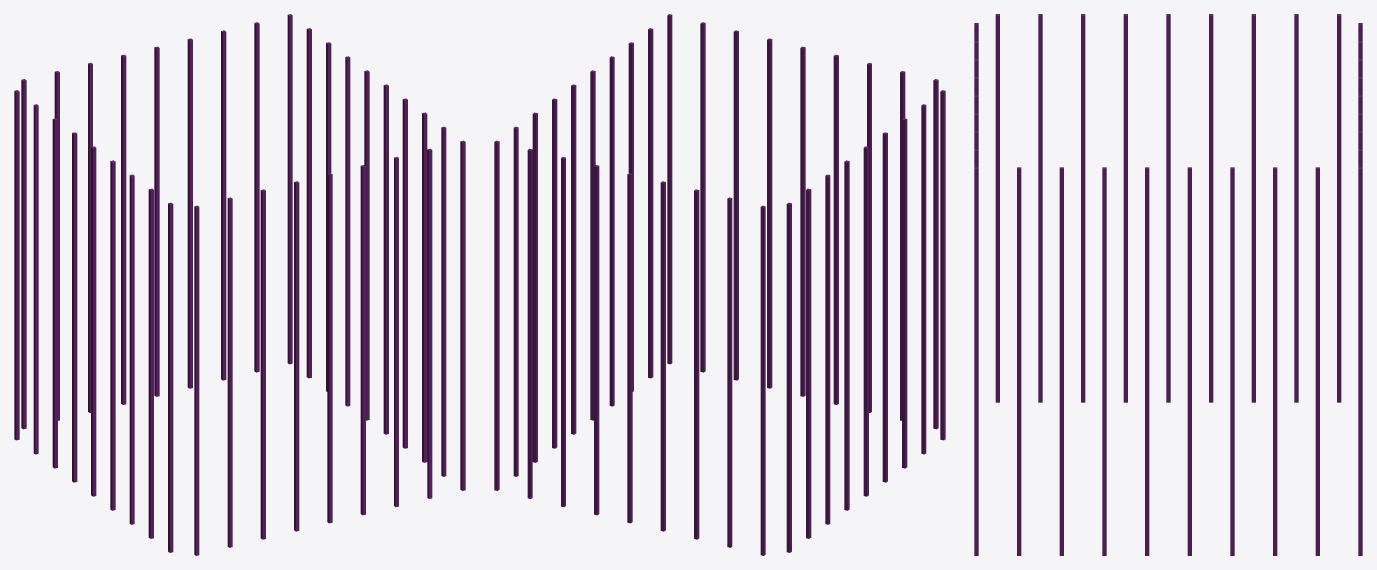
Rendered from SlumpA.fbx.
The picture shows the model from 3 angles, left to right: view 1: azimuth 30°, elevation 25°; view 2: azimuth 150°, elevation 25°; view 3: azimuth 270°, elevation 25°; orthographic projection. The views are drawn at different scales.
Visible parts, largest first — view 1: Cube.008, Cube.037, Cube.070, Cube.010, Cube.011, Cube.017, Cube.019, Cube.023, Cube.032, Cube.040, Cube.044, Cube.056 (+23 smaller); view 2: Cube.008, Cube.037, Cube.054, Cube.001, Cube.005, Cube.017, Cube.021, Cube.023, Cube.039, Cube.046, Cube.050, Cube.058 (+23 smaller); view 3: Cube.011, Cube.013, Cube.015, Cube.017, Cube.019, Cube.021, Cube.023, Cube.025, Cube.027, Cube.046, Cube.054, Cube.056 (+7 smaller).
Part boxes in pixels (x1,y1,x2,y2): Cube.008: (327,173,332,523); Cube.037: (154,46,159,396); Cube.070: (14,90,19,440); Cube.010: (294,181,299,531); Cube.011: (460,140,465,490); Cube.017: (402,98,407,448); Cube.019: (383,84,388,434); Cube.023: (345,56,350,406); Cube.032: (227,197,232,547); Cube.040: (187,38,192,388); Cube.044: (254,22,259,372); Cube.056: (148,188,153,538); Cube.008: (800,46,805,396); Cube.037: (627,173,632,523); Cube.054: (940,90,945,440); Cube.001: (767,38,772,388); Cube.005: (700,22,705,372); Cube.017: (609,56,614,406); Cube.021: (571,84,576,434); Cube.023: (552,98,557,448); Cube.039: (660,181,665,531); Cube.046: (494,140,499,490); Cube.050: (727,197,732,547); Cube.058: (902,118,907,468); Cube.011: (974,167,978,555); Cube.013: (1017,167,1021,555); Cube.015: (1059,167,1063,555); Cube.017: (1102,167,1106,555); Cube.019: (1145,167,1149,555); Cube.021: (1187,167,1191,555); Cube.023: (1230,167,1234,555); Cube.025: (1273,167,1277,555); Cube.027: (1315,167,1319,555); Cube.046: (1358,167,1362,555); Cube.054: (995,14,999,402); Cube.056: (1038,14,1042,402).
Bounding box in the file's own units: 172 × 200 × 182.
